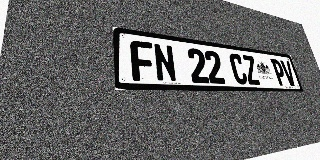2: (186, 47, 209, 83), (203, 50, 225, 84)
C: (228, 53, 249, 84)
F: (130, 40, 156, 82)
N: (152, 43, 177, 82)
P: (270, 59, 288, 86)
V: (280, 60, 297, 86)
Z: (241, 55, 261, 85)
